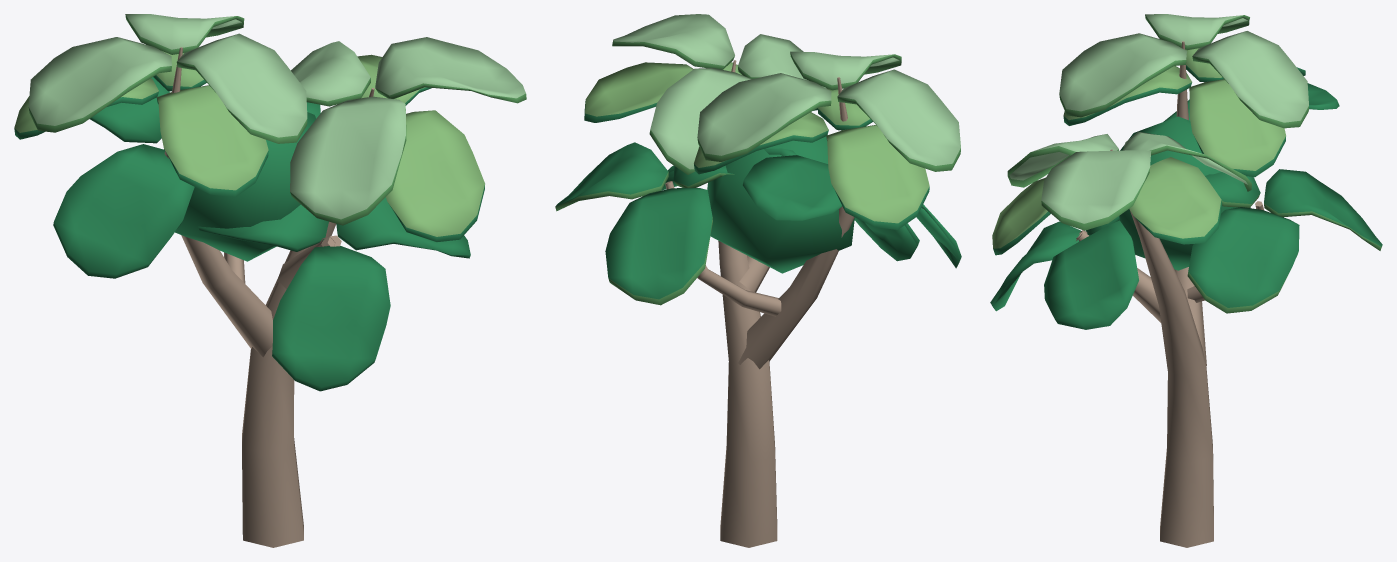
File: maple1-lod2.glb
3 renders of one model, left to right at view 1: azimuth 30°, elevation 25°; view 2: azimuth 150°, elevation 25°; view 3: azimuth 270°, elevation 25°, orthographic. The views are drawn at different scales.
Visible parts, largest first — view 1: maple1-lod2; view 2: maple1-lod2; view 3: maple1-lod2.
Part boxes in pixels (left/top/right/bottom): maple1-lod2: left=14, top=14, right=526, bottom=547; maple1-lod2: left=555, top=14, right=961, bottom=547; maple1-lod2: left=990, top=14, right=1382, bottom=547.
Bounding box in the file's own units: 9.78 × 11.48 × 8.93.
